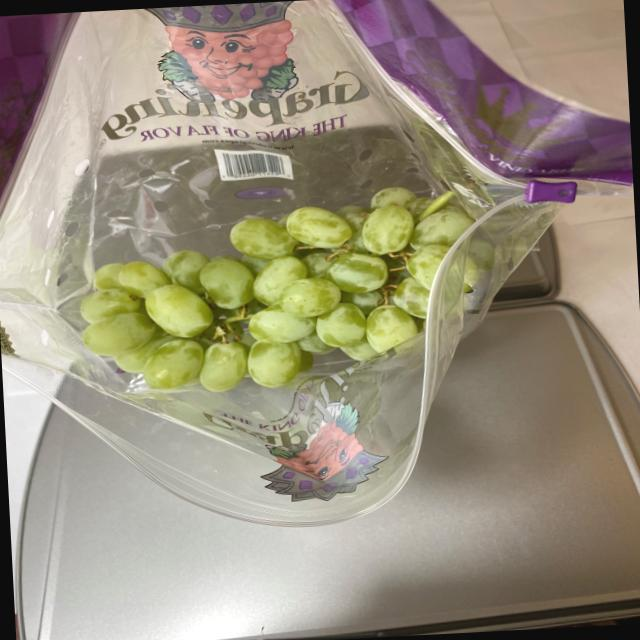grapes: (70, 167, 511, 407)
